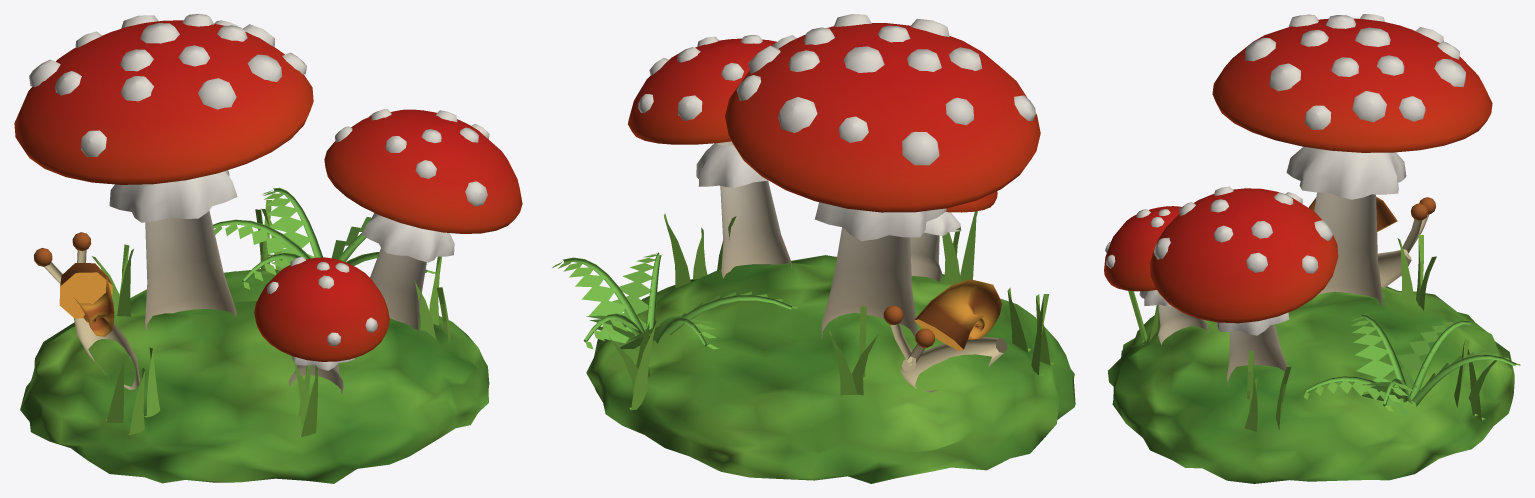
File: mushrooms.glb
The picture shows the model from 3 angles, left to right: view 1: azimuth 30°, elevation 25°; view 2: azimuth 150°, elevation 25°; view 3: azimuth 270°, elevation 25°; orthographic projection. The views are drawn at different scales.
Parts seen in each view (by area): view 1: mushrooms; view 2: mushrooms; view 3: mushrooms.
Part boxes in pixels (x1=…): mushrooms: x1=14, y1=14, x2=522, y2=483; mushrooms: x1=552, y1=14, x2=1075, y2=483; mushrooms: x1=1104, y1=14, x2=1520, y2=483.
Bounding box in the file's own units: 2.64 × 2.11 × 2.37.
